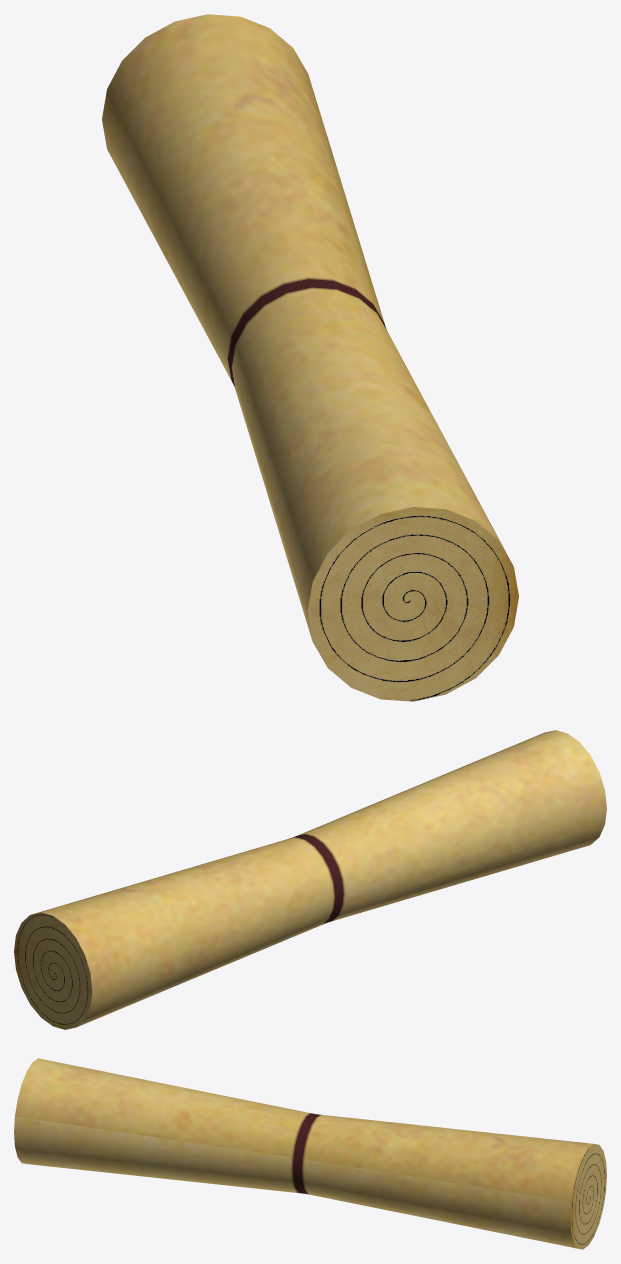
File: Blueprint1.obj
3 views of the same model, one above another, from view 1: azimuth 30°, elevation 25°; view 2: azimuth 150°, elevation 25°; view 3: azimuth 270°, elevation 25° (orthographic). The views are drawn at different scales.
Parts seen in each view (by area): view 1: Blueprint:pCylinder1; view 2: Blueprint:pCylinder1; view 3: Blueprint:pCylinder1.
Part boxes in pixels (x1=…): Blueprint:pCylinder1: x1=102, y1=14, x2=518, y2=701; Blueprint:pCylinder1: x1=14, y1=730, x2=606, y2=1029; Blueprint:pCylinder1: x1=14, y1=1058, x2=606, y2=1249.
Bounding box in the file's own units: 0.2253 × 0.0798 × 0.4404.
1 material, 1 textured.
